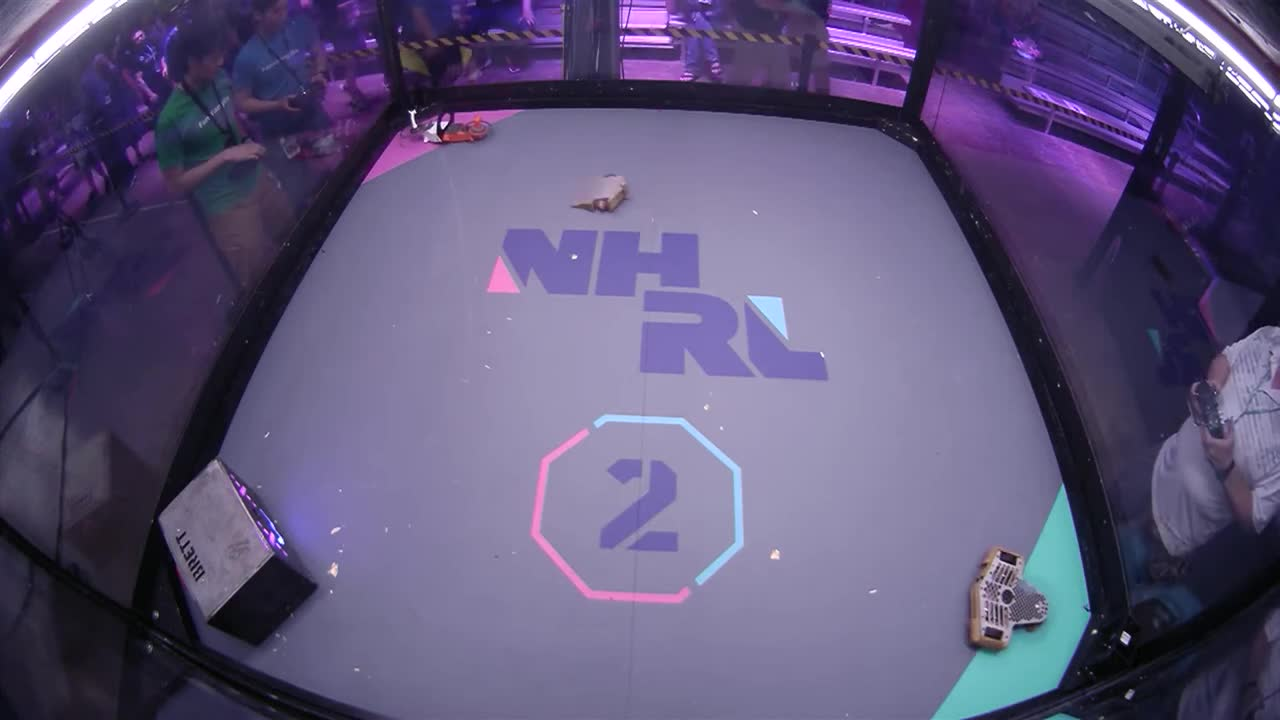combatbot: (965, 546, 1049, 655), (405, 105, 494, 146)
housebot: (155, 457, 325, 647)
minibot: (571, 173, 631, 216)
